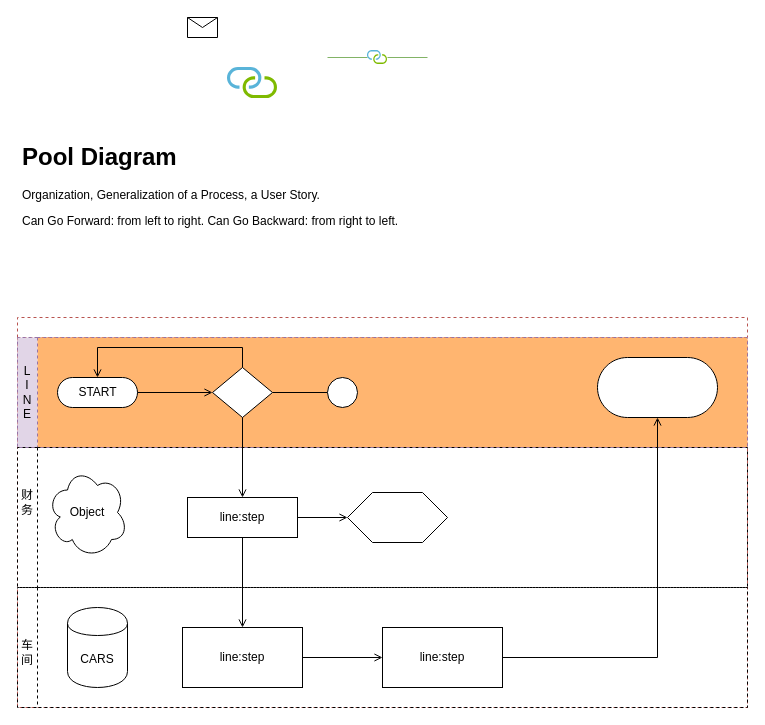
This 765x725 diagram has some shape labels left out. The box of each missing label's shape, as (x1, y1, x2, y2) in pixels:
CHECK: (346, 492, 448, 542)
END: (596, 356, 718, 418)
REF: (326, 376, 358, 408)
